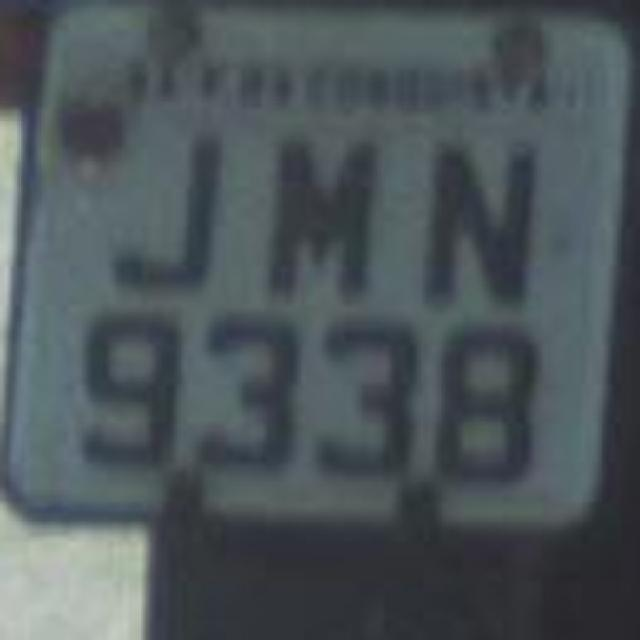3: (280, 295, 448, 500), (168, 292, 328, 500)
8: (424, 305, 564, 500)
9: (60, 288, 200, 508)
J: (100, 116, 240, 309)
N: (244, 108, 388, 320), (405, 124, 540, 316)
